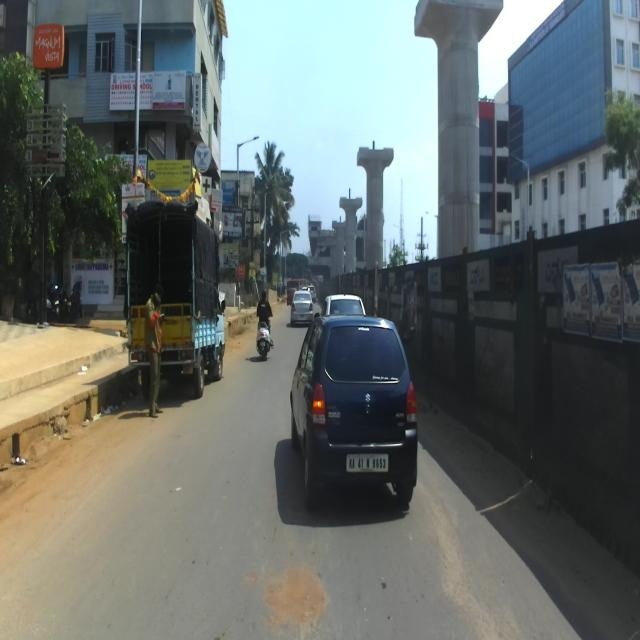car ahead at: (289, 315, 419, 510)
person ahead at: (144, 287, 168, 418)
truck ahead at: (119, 198, 230, 409)
